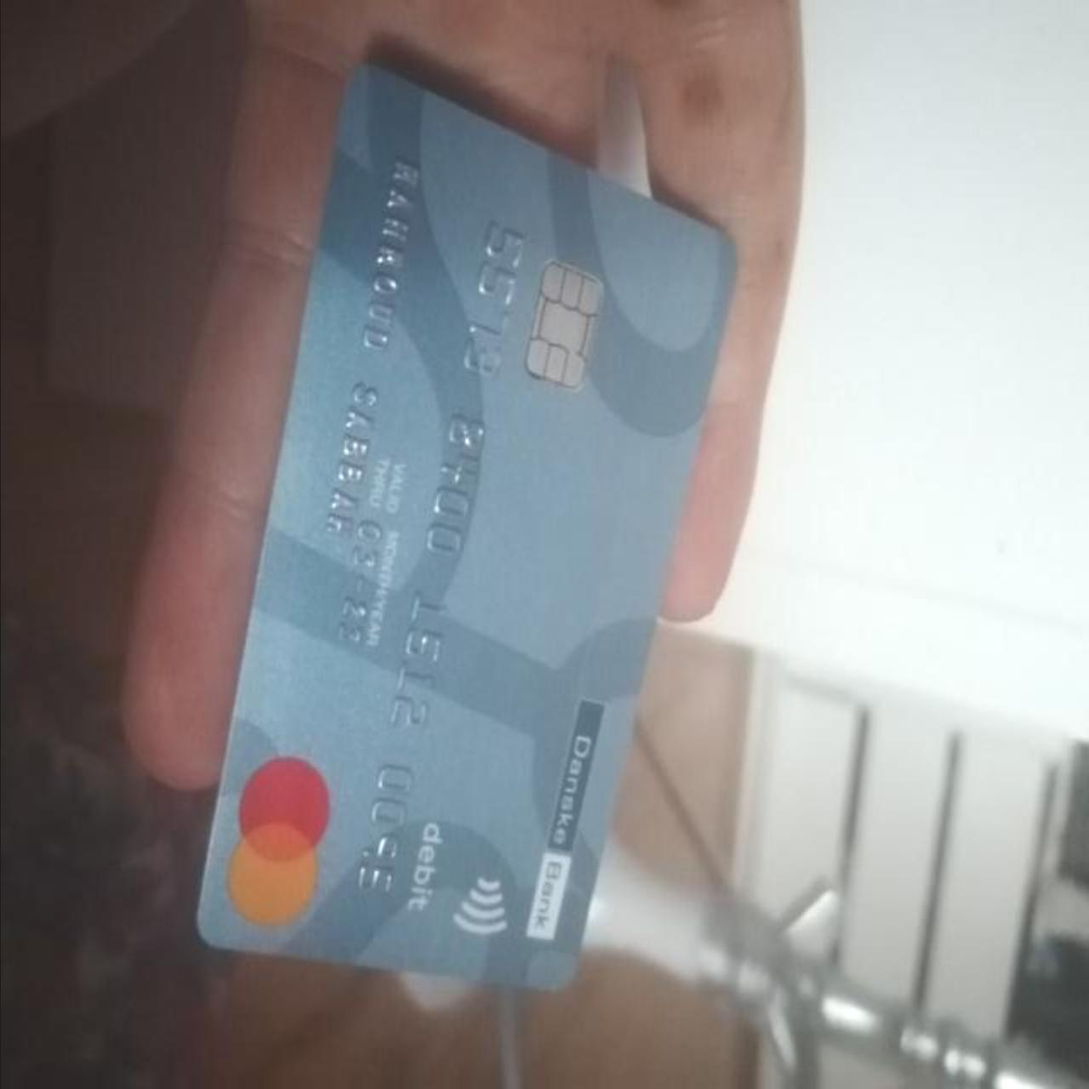credit_card: (187, 59, 740, 994)
